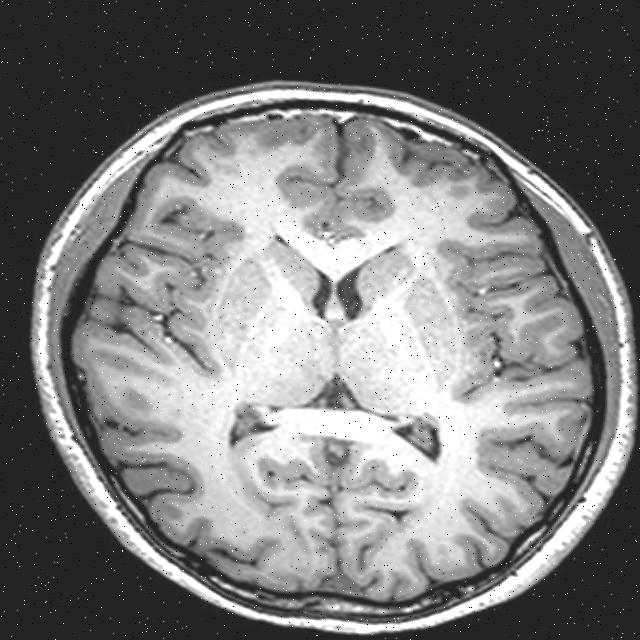NoTumor: (3, 51, 640, 640)
